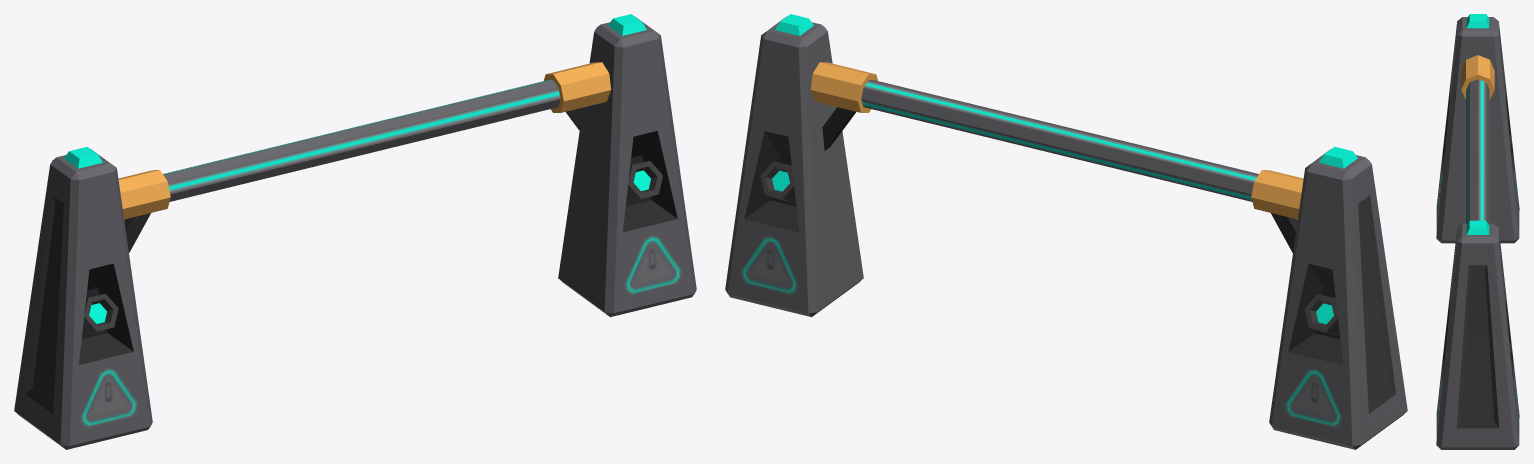
File: worlds_SM_Prop_Bike_Hitch_01.gltf
3 renders of one model, left to right at view 1: azimuth 30°, elevation 25°; view 2: azimuth 150°, elevation 25°; view 3: azimuth 270°, elevation 25°, orthographic. The views are drawn at different scales.
Parts seen in each view (by area): view 1: SM_Prop_Bike_Hitch_01; view 2: SM_Prop_Bike_Hitch_01; view 3: SM_Prop_Bike_Hitch_01.
Boxes of the visible parts, <box> form: SM_Prop_Bike_Hitch_01: <box>14,14,696,449</box>; SM_Prop_Bike_Hitch_01: <box>725,14,1407,449</box>; SM_Prop_Bike_Hitch_01: <box>1436,14,1519,449</box>.
Size of the model in its own units: 3.66 by 1.49 by 0.5314.
1 material, 1 textured.
